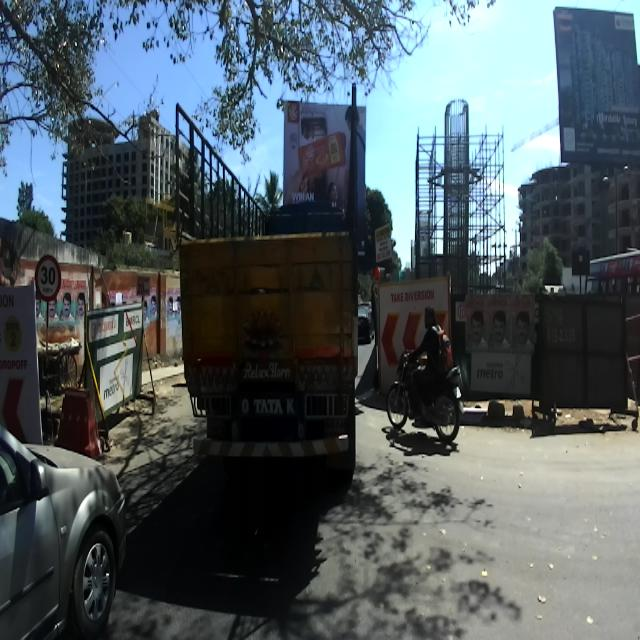barrier ahead at: (75, 299, 159, 432)
motorcycle ahead at: (384, 346, 466, 446)
sign board ahead at: (30, 251, 62, 304)
truck ahead at: (166, 75, 366, 498)
